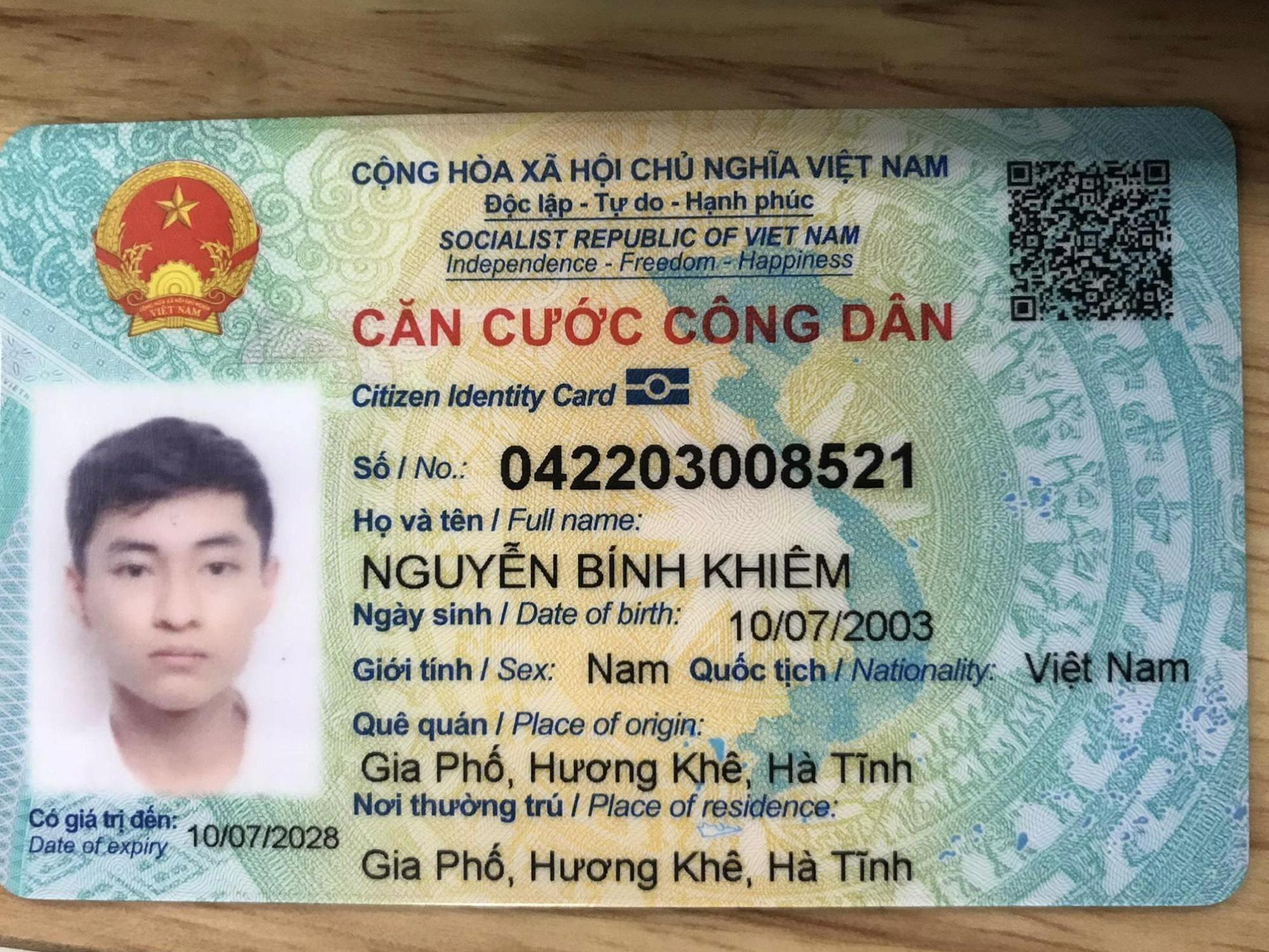ID: (487, 433, 939, 506)
birth: (724, 595, 947, 650)
name: (346, 537, 866, 605)
place: (353, 741, 919, 795)
residence: (350, 832, 925, 902)
